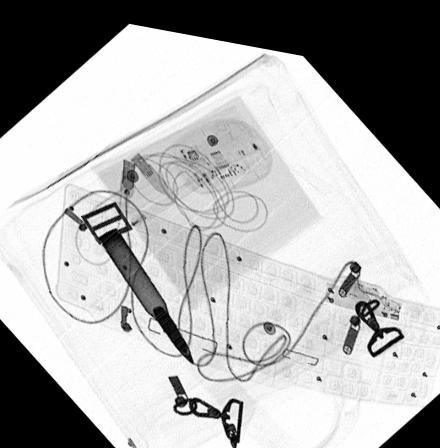Bullet: (95, 221, 193, 359)
